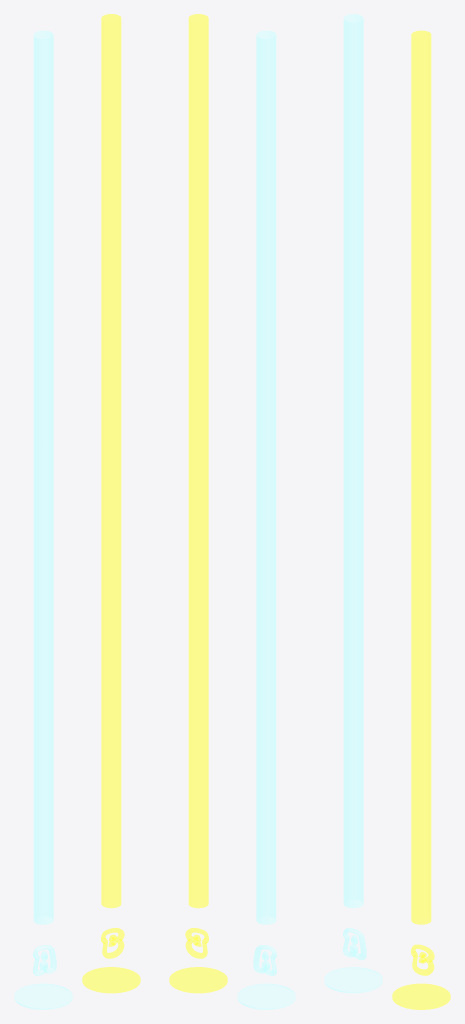
The model's file is a and b icons.fbx.
3 views of the same model, side by side, from view 1: azimuth 30°, elevation 25°; view 2: azimuth 150°, elevation 25°; view 3: azimuth 330°, elevation 25° (orthographic).
Visible parts, largest first — view 1: Cylinder.001, Cylinder.002, Cylinder, Cylinder.003, Text, Text.001; view 2: Cylinder.001, Cylinder.002, Cylinder, Cylinder.003, Text, Text.001; view 3: Cylinder.002, Cylinder.001, Cylinder.003, Cylinder, Text, Text.001.
Boxes of the visible parts, x1,y1,x2,y2 form: Cylinder.001: (33,30,53,924); Cylinder.002: (101,14,121,908); Cylinder: (14,983,72,1009); Cylinder.003: (82,967,140,993); Text: (33,945,56,975); Text.001: (101,928,124,958); Cylinder.001: (256,30,276,924); Cylinder.002: (188,14,208,908); Cylinder: (237,983,295,1009); Cylinder.003: (169,967,227,993); Text: (253,945,276,975); Text.001: (185,928,208,958); Cylinder.002: (411,30,431,924); Cylinder.001: (343,14,363,908); Cylinder.003: (392,983,450,1009); Cylinder: (324,967,382,993); Text: (343,928,366,959); Text.001: (411,944,434,975).
Size of the model in its own units: 350 by 2709 by 150.
